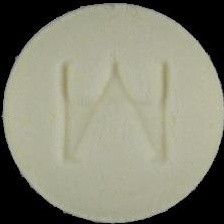0378-4881: (0, 0, 224, 224)
